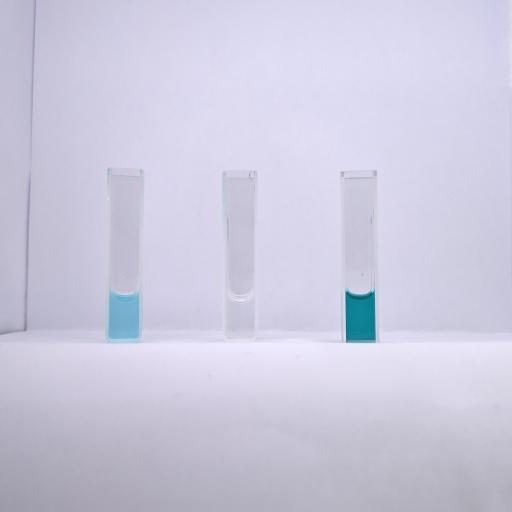cuvette: (338, 169, 381, 345), (104, 166, 146, 343), (220, 169, 258, 343)
liquid: (109, 292, 139, 339), (346, 292, 375, 340), (226, 294, 254, 340)
